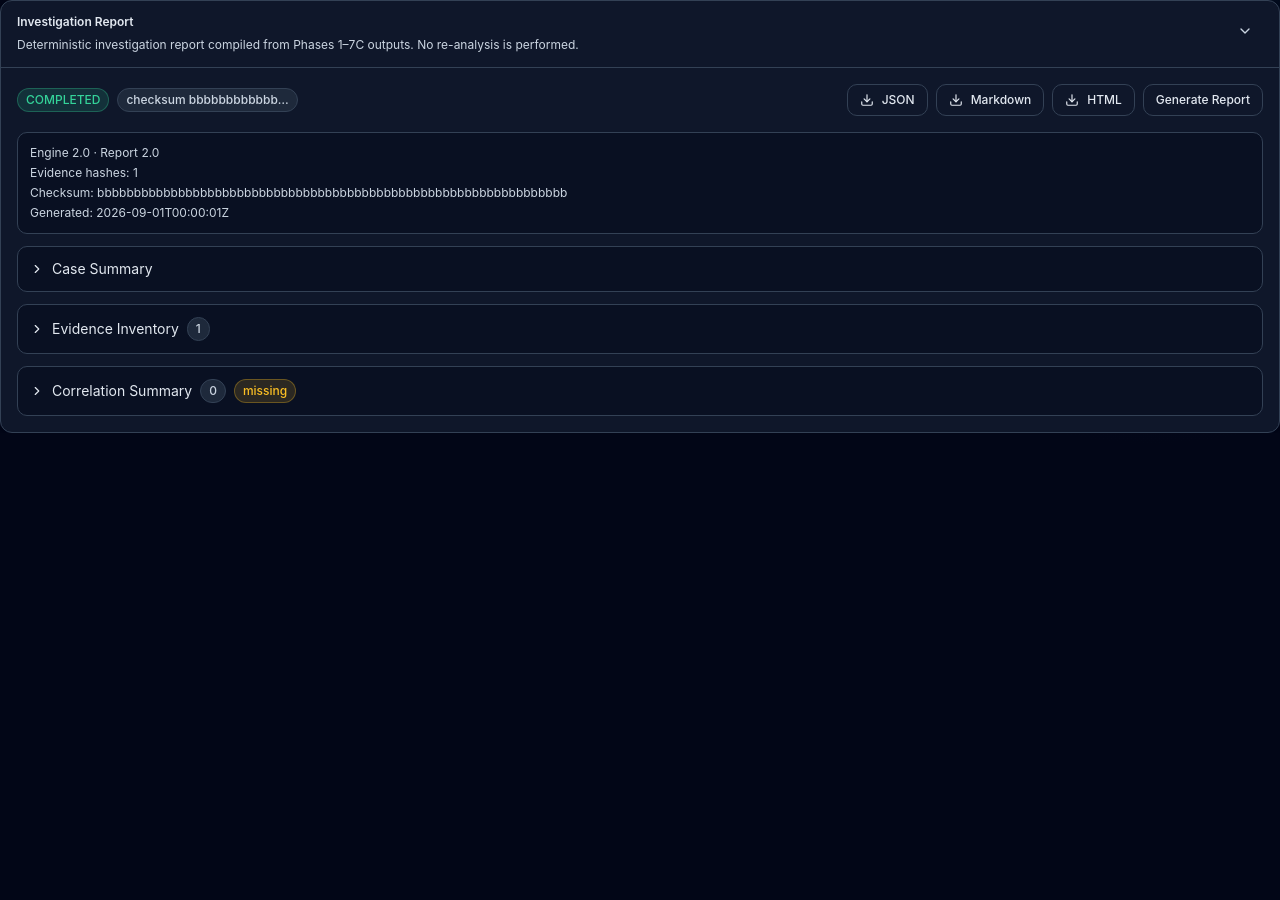
Test: Phase 7D ReportPanel › expands a report section
Step 1. Click the text "Evidence Inventory" → (115, 328), box [52,318,179,338]
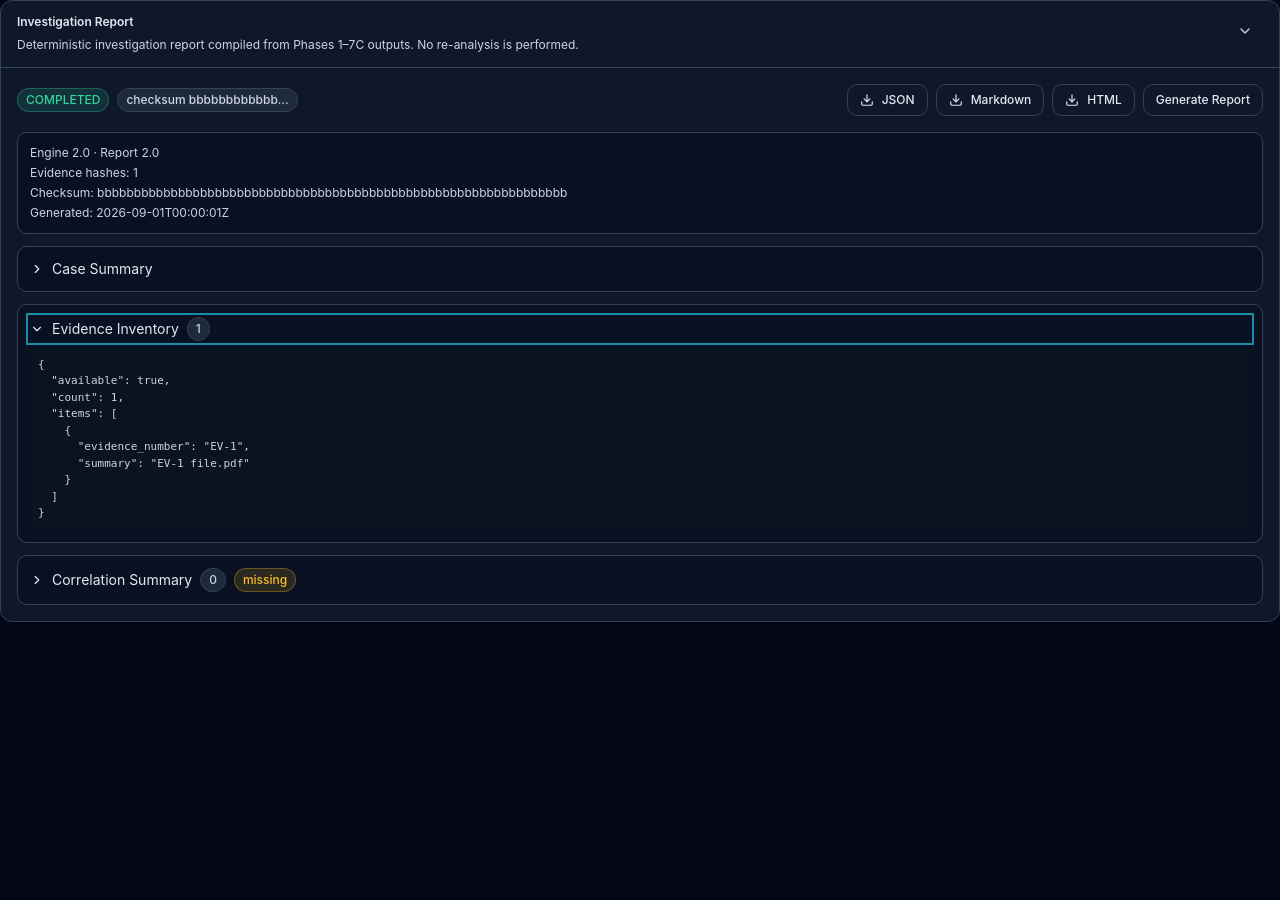
Now the text "EV-1" is shown, box [38,358,250,519]
